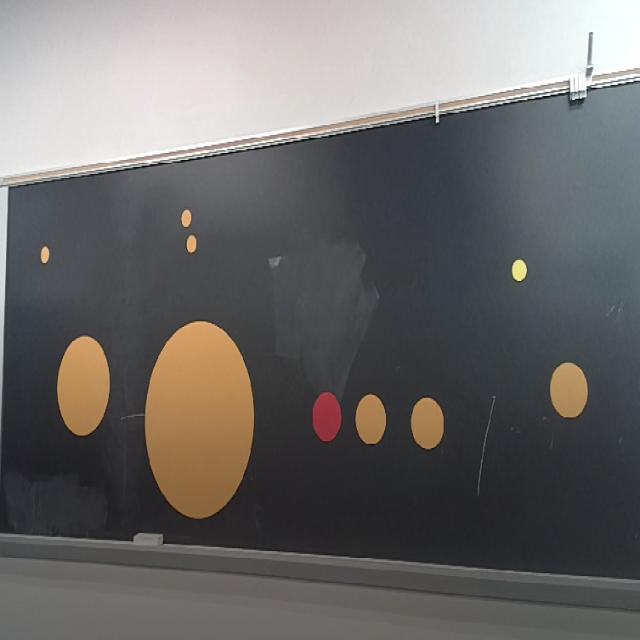Orange: (144, 322, 255, 520), (57, 336, 110, 436), (549, 362, 588, 418), (411, 397, 444, 449), (356, 394, 386, 445), (185, 234, 198, 254), (181, 209, 192, 228), (40, 246, 50, 264)
Red: (312, 392, 342, 442)
Yellow: (512, 260, 527, 281)
